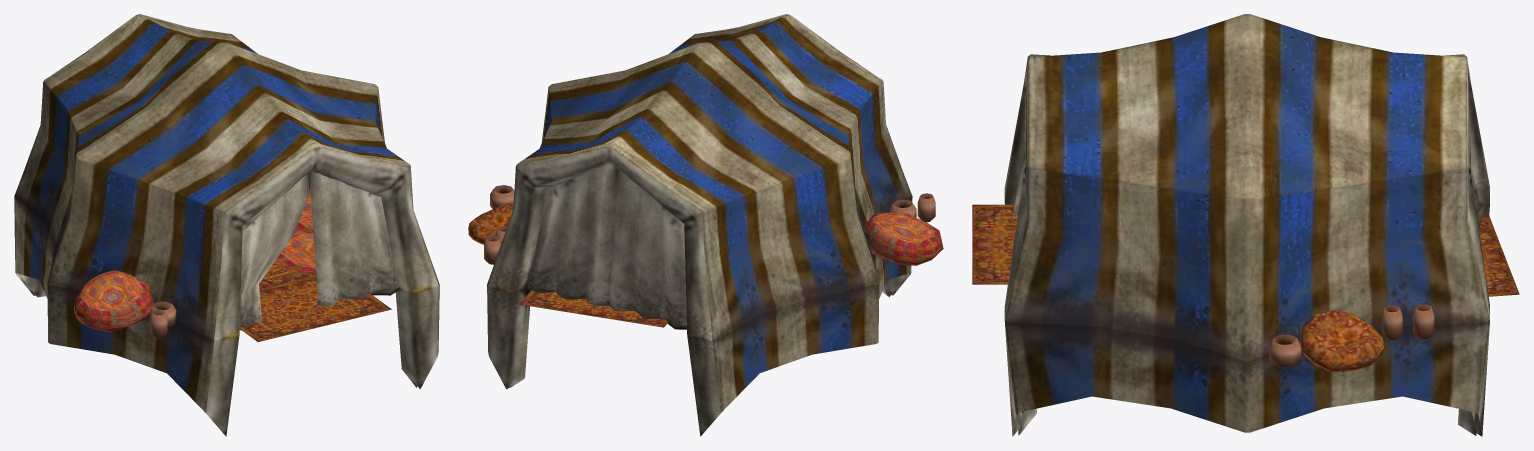
The model's file is structures-tent-arab.glb.
3 renders of one model, left to right at view 1: azimuth 30°, elevation 25°; view 2: azimuth 150°, elevation 25°; view 3: azimuth 270°, elevation 25°, orthographic. The views are drawn at different scales.
Parts seen in each view (by area): view 1: Cube; view 2: Cube; view 3: Cube.
Boxes of the visible parts, x1,y1,x2,y2 form: Cube: (14, 14, 439, 436); Cube: (468, 14, 943, 436); Cube: (972, 14, 1519, 436).
Bounding box in the file's own units: 4.76 × 3.53 × 4.81.
Materials: 1 (1 with a texture image).
